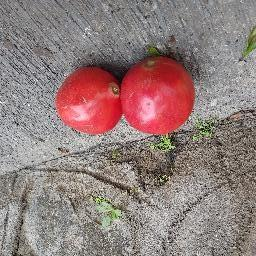pomegranate: (121, 56, 195, 135), (56, 66, 123, 134)
